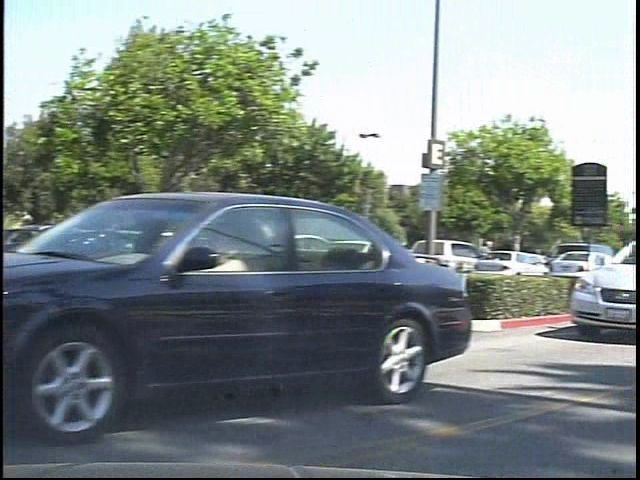person: (485, 232, 512, 287)
